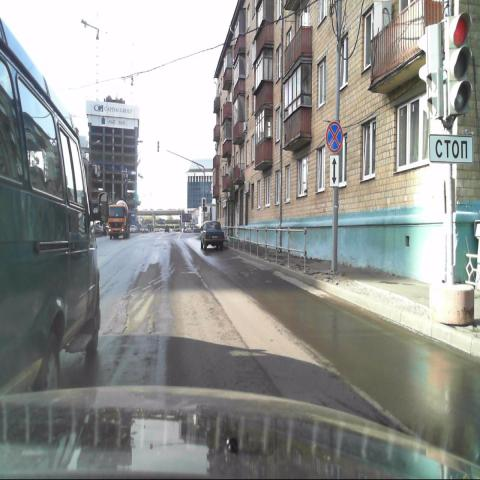8_2_4: (330, 153, 340, 187)
